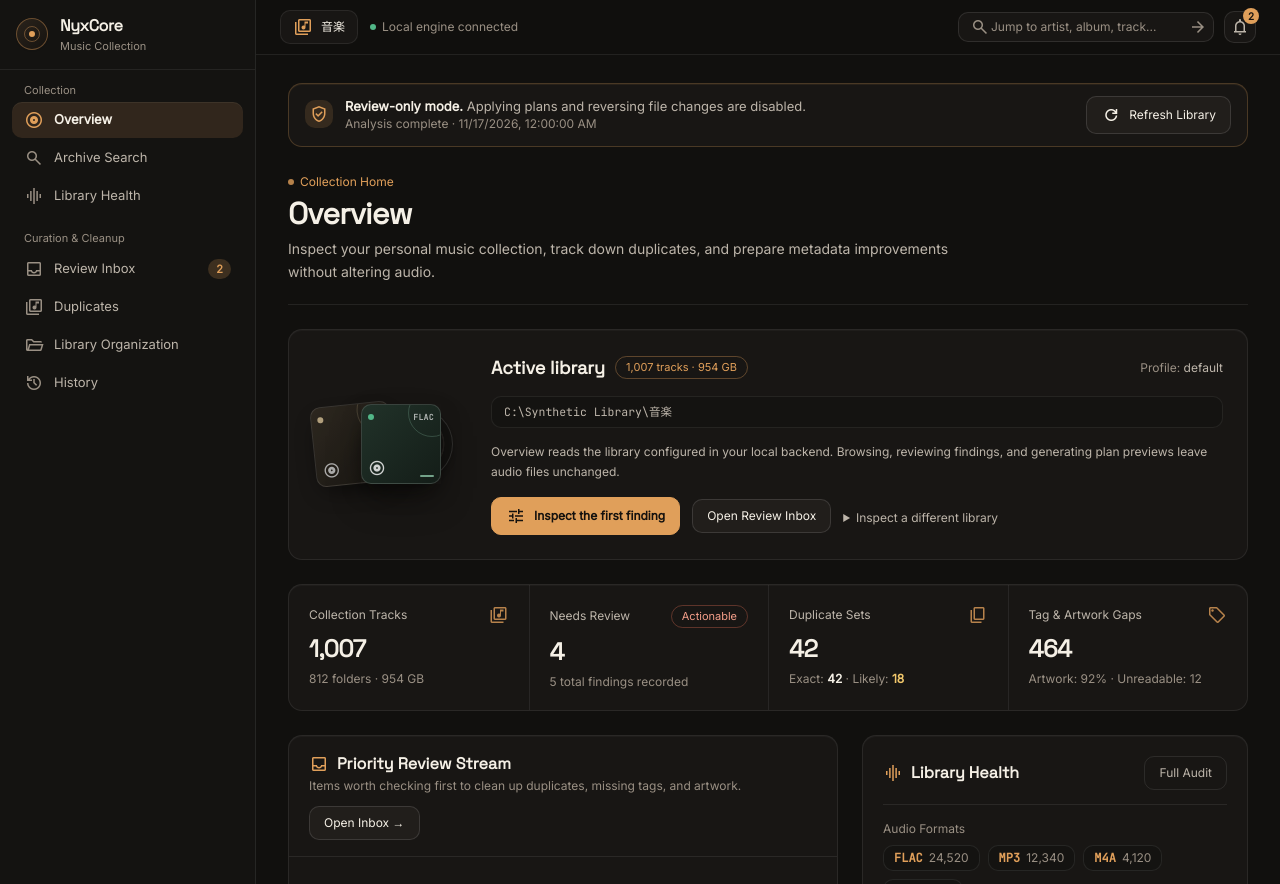
Test: Overview first run › shares reports and preserves them when a library refresh or its follow-up read fails
Expected: the text "1,007" is shown, left=309, top=633, right=366, bottom=664
Click the button "Refresh Library".
click(1159, 115)  # box left=1086, top=96, right=1231, bottom=134
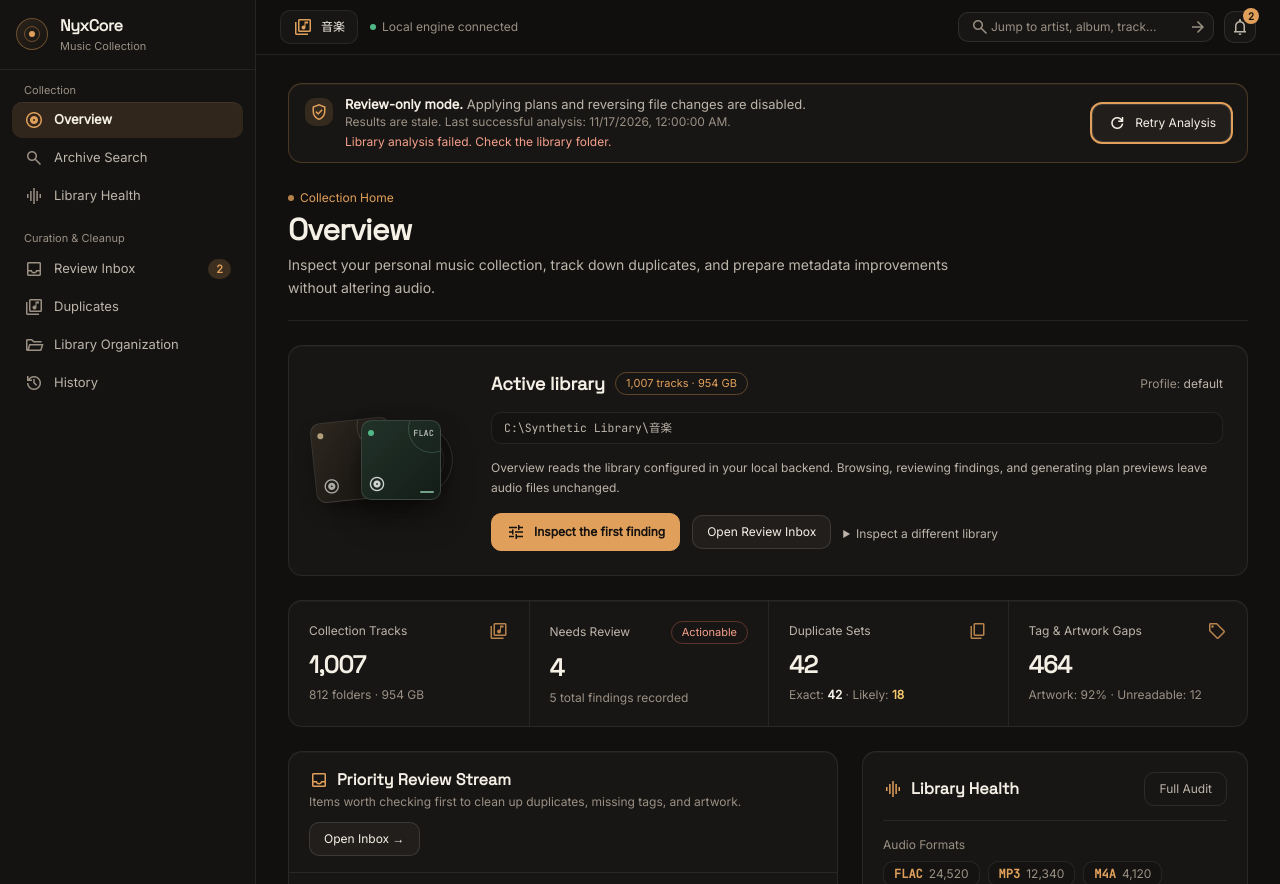
Expected: the text "1,007" is shown, left=309, top=649, right=366, bottom=680
Expected: the message "Library analysis failed. Check the library folder." is shown, left=345, top=134, right=611, bottom=149
Click the button "Retry Analysis".
click(1162, 123)  # box left=1092, top=104, right=1231, bottom=142
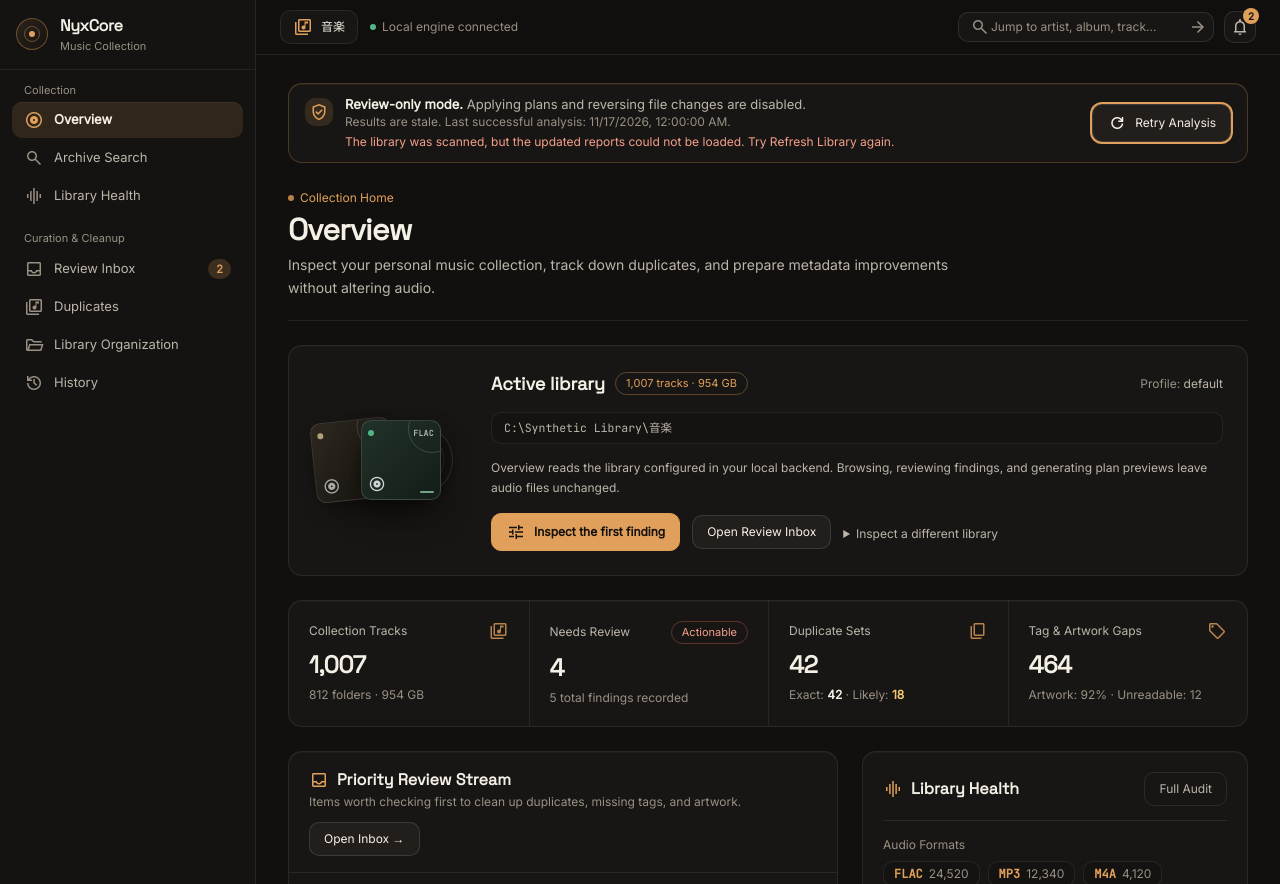
Expected: the text "1,007" is shown, left=309, top=649, right=366, bottom=680
Expected: the text "scanned, but the updated reports could not be loaded" is shown, left=345, top=134, right=894, bottom=149
Click the button "Retry Analysis".
click(1162, 123)  # box left=1092, top=104, right=1231, bottom=142
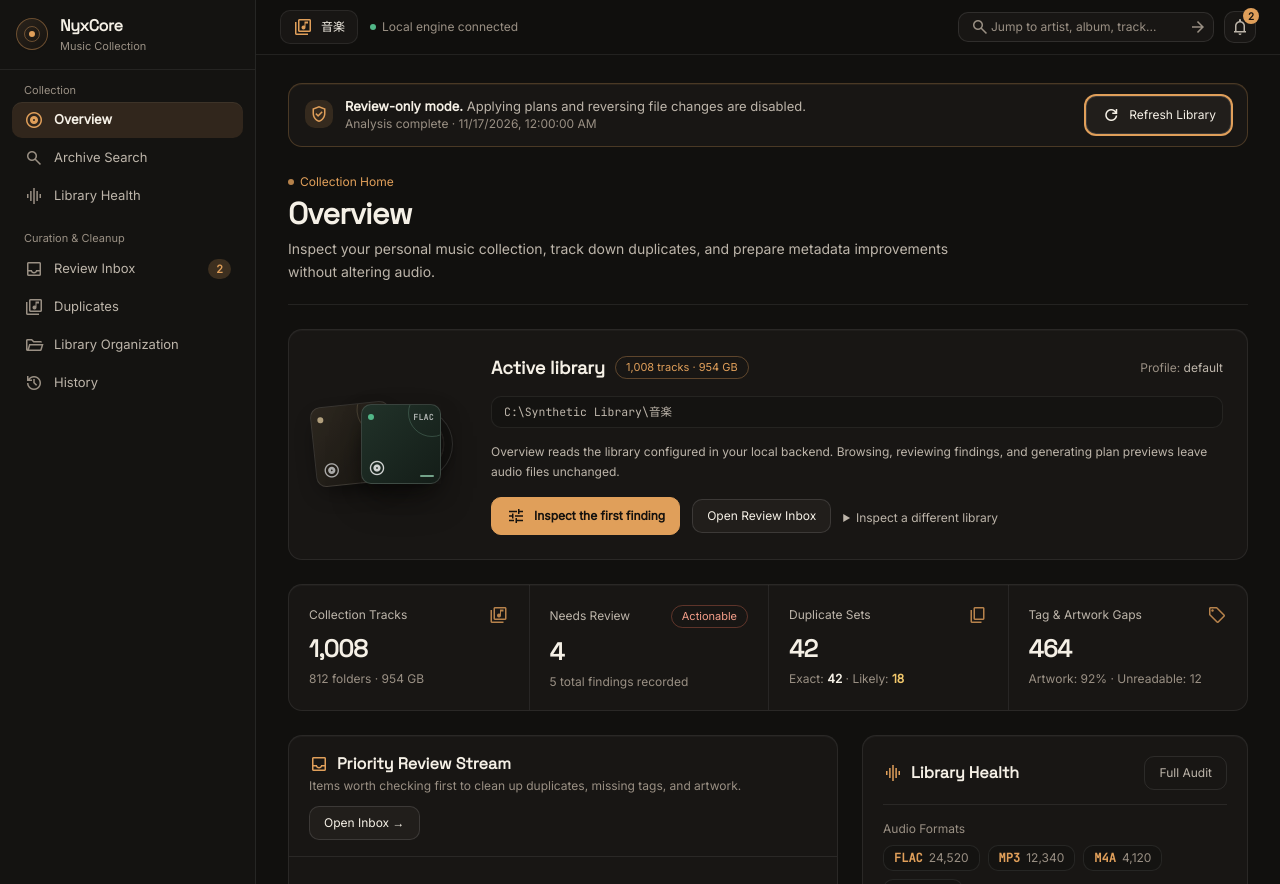
Expected: the text "1,008" is shown, left=309, top=633, right=367, bottom=664
